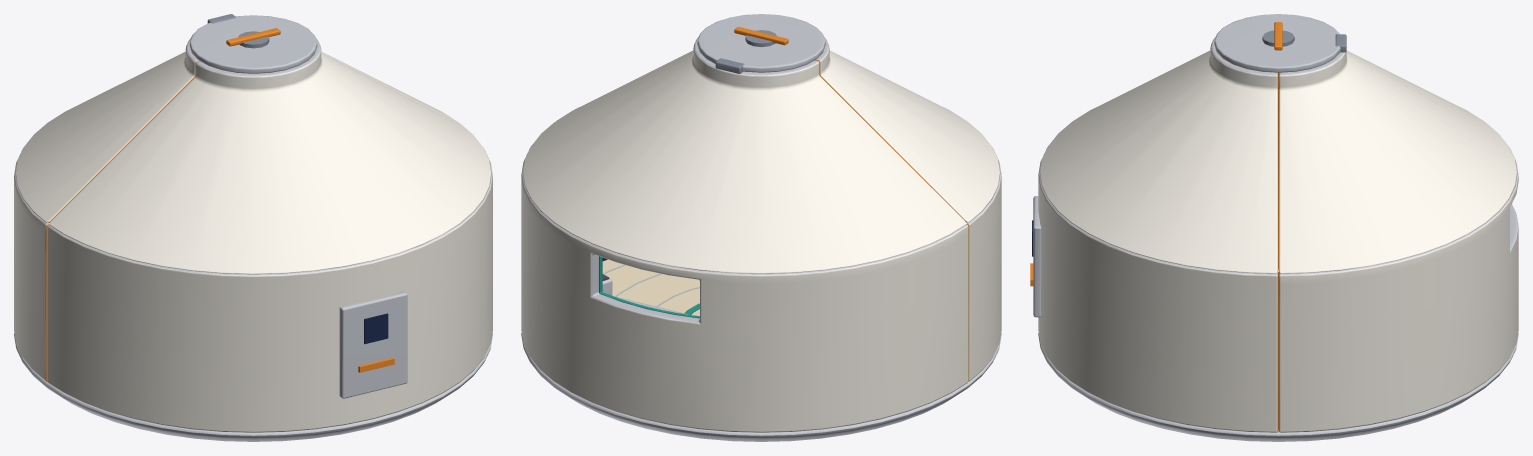
Rendered from Ship_Interior.glb.
3 renders of one model, left to right at view 1: azimuth 30°, elevation 25°; view 2: azimuth 150°, elevation 25°; view 3: azimuth 270°, elevation 25°, orthographic.
Visible parts, largest first — view 1: Ship_Interior.Wall_Front, Ship_Interior.Roof_Front, Ship_Interior.Roof_Back, Ship_Interior.Move_Hatch, Ship_Interior.Wall_Back, Ship_Interior.Floor; view 2: Ship_Interior.Wall_Back, Ship_Interior.Roof_Back, Ship_Interior.Roof_Front, Ship_Interior.Floor, Ship_Interior.Move_Hatch, Ship_Interior.Wall_Front; view 3: Ship_Interior.Roof_Front, Ship_Interior.Roof_Back, Ship_Interior.Wall_Front, Ship_Interior.Wall_Back, Ship_Interior.Move_Hatch, Ship_Interior.Floor.
Boxes of the visible parts, x1,y1,x2,y2 form: Ship_Interior.Wall_Front: (47, 155, 492, 432); Ship_Interior.Roof_Front: (48, 38, 491, 274); Ship_Interior.Roof_Back: (15, 38, 457, 223); Ship_Interior.Move_Hatch: (189, 14, 317, 73); Ship_Interior.Wall_Back: (14, 155, 49, 381); Ship_Interior.Floor: (14, 333, 492, 441); Ship_Interior.Wall_Back: (521, 149, 968, 432); Ship_Interior.Roof_Back: (522, 37, 966, 273); Ship_Interior.Roof_Front: (556, 37, 1000, 222); Ship_Interior.Floor: (521, 259, 1001, 441); Ship_Interior.Move_Hatch: (697, 14, 825, 73); Ship_Interior.Wall_Front: (602, 149, 1001, 381); Ship_Interior.Roof_Front: (1039, 37, 1278, 273); Ship_Interior.Roof_Back: (1278, 50, 1517, 273); Ship_Interior.Wall_Front: (1030, 149, 1278, 432); Ship_Interior.Wall_Back: (1278, 149, 1518, 432); Ship_Interior.Move_Hatch: (1214, 14, 1346, 72); Ship_Interior.Floor: (1038, 269, 1518, 441).
Size of the model in its own units: 6 by 4.37 by 6.1.
1 material, 1 textured.
